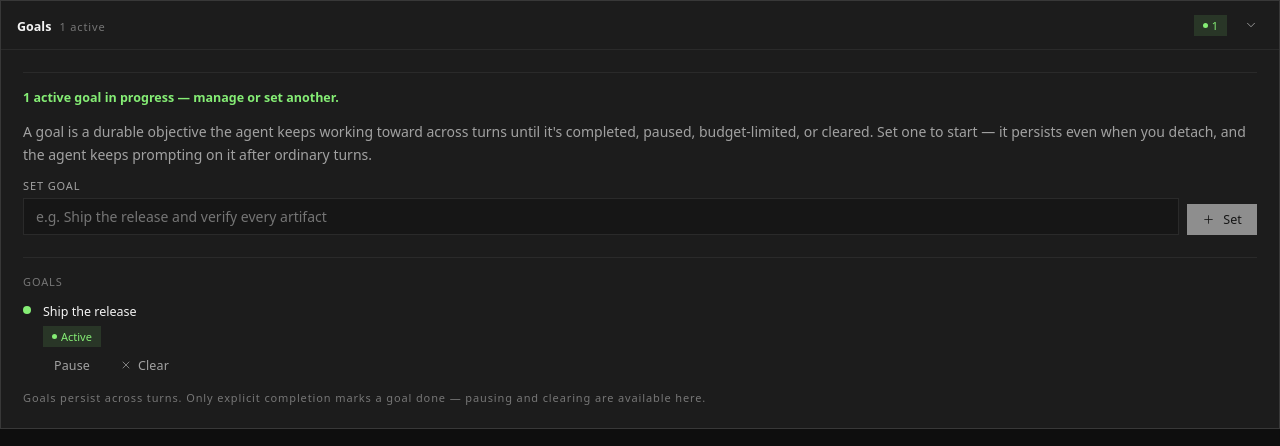
Scenario: GoalsPanel › clears a goal and hides its Clear action
The width and height of the screenshot is (1280, 446).
Click the button "Clear" at (144, 365), box [109,353,180,378]
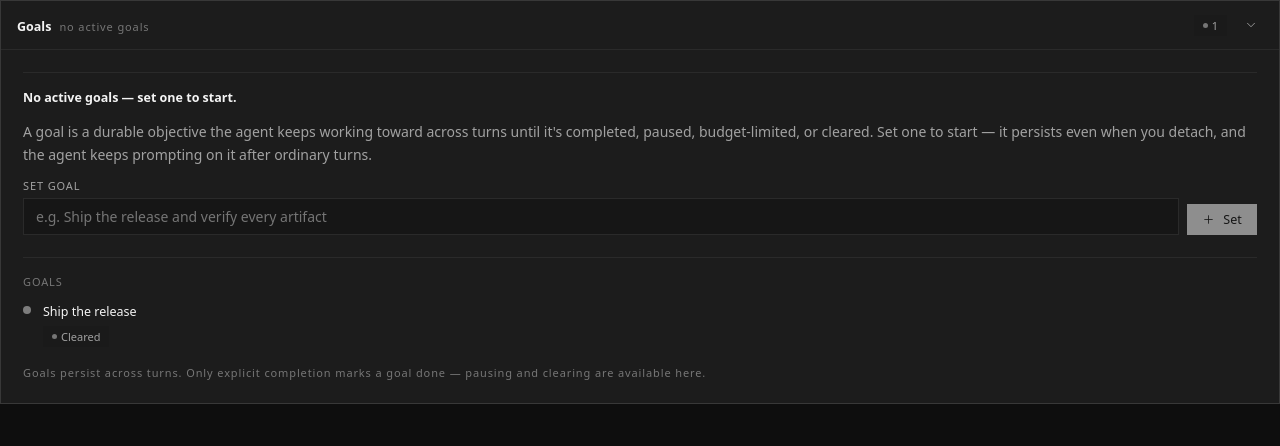
expect the text "Cleared" is shown: met, box [43,326,110,347]
